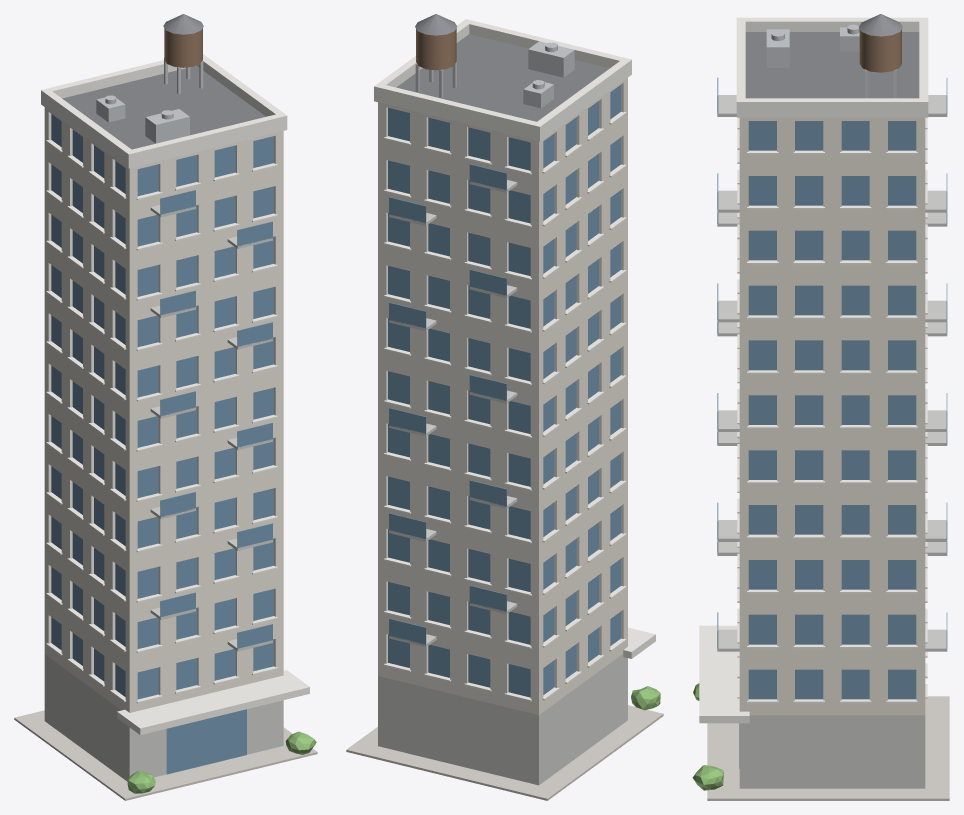
The picture shows the model from 3 angles, left to right: view 1: azimuth 30°, elevation 25°; view 2: azimuth 150°, elevation 25°; view 3: azimuth 270°, elevation 25°; orthographic projection. The views are drawn at different scales.
Visible parts, largest first — view 1: r_3_1_b; view 2: r_3_1_b; view 3: r_3_1_b.
Boxes of the visible parts, x1,y1,x2,y2 form: r_3_1_b: [14, 14, 317, 800]; r_3_1_b: [346, 14, 663, 800]; r_3_1_b: [692, 14, 949, 800].
Size of the model in its own units: 12 by 41.42 by 12.74.
